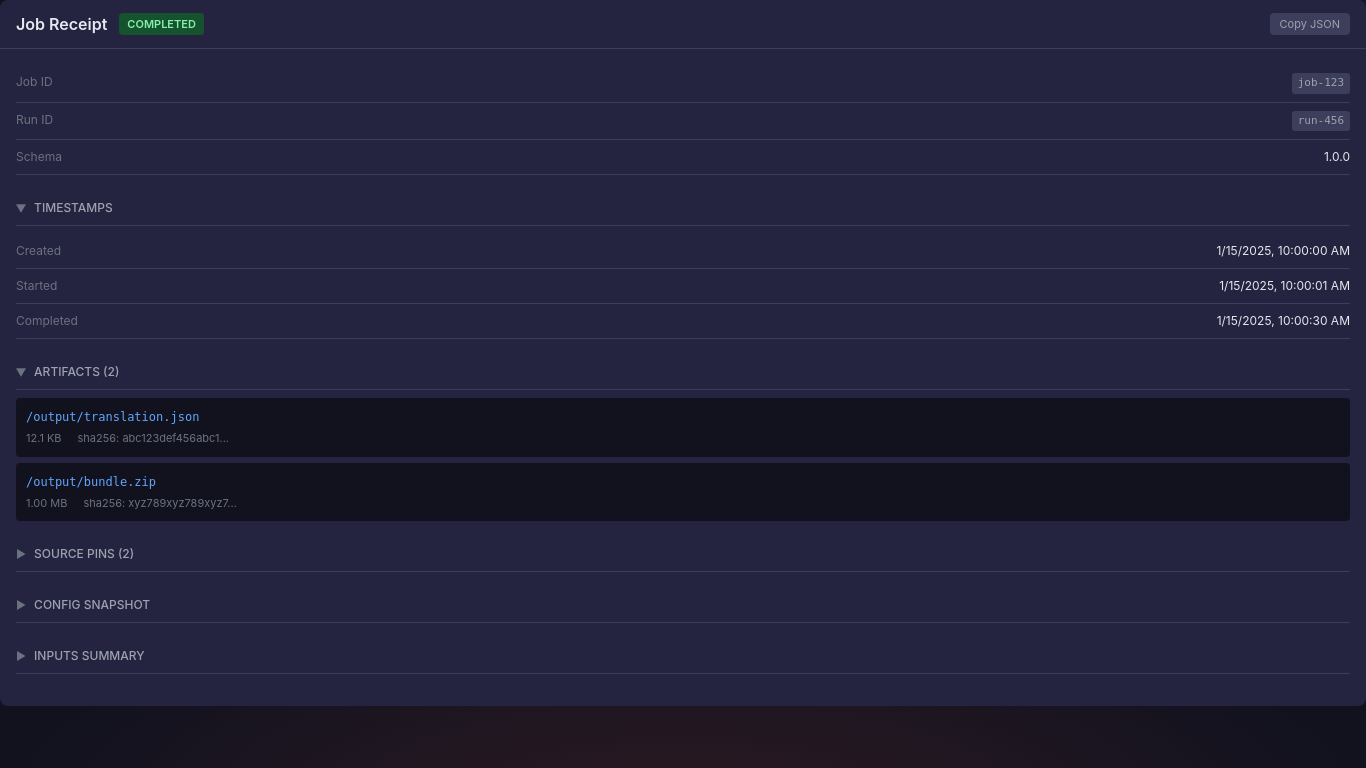
Test: ReceiptViewer › terminal states - success › shows Copied! feedback after copy
The image size is (1366, 768).
Click the button "Copy JSON" at (1310, 24), box [1270,13,1350,35]
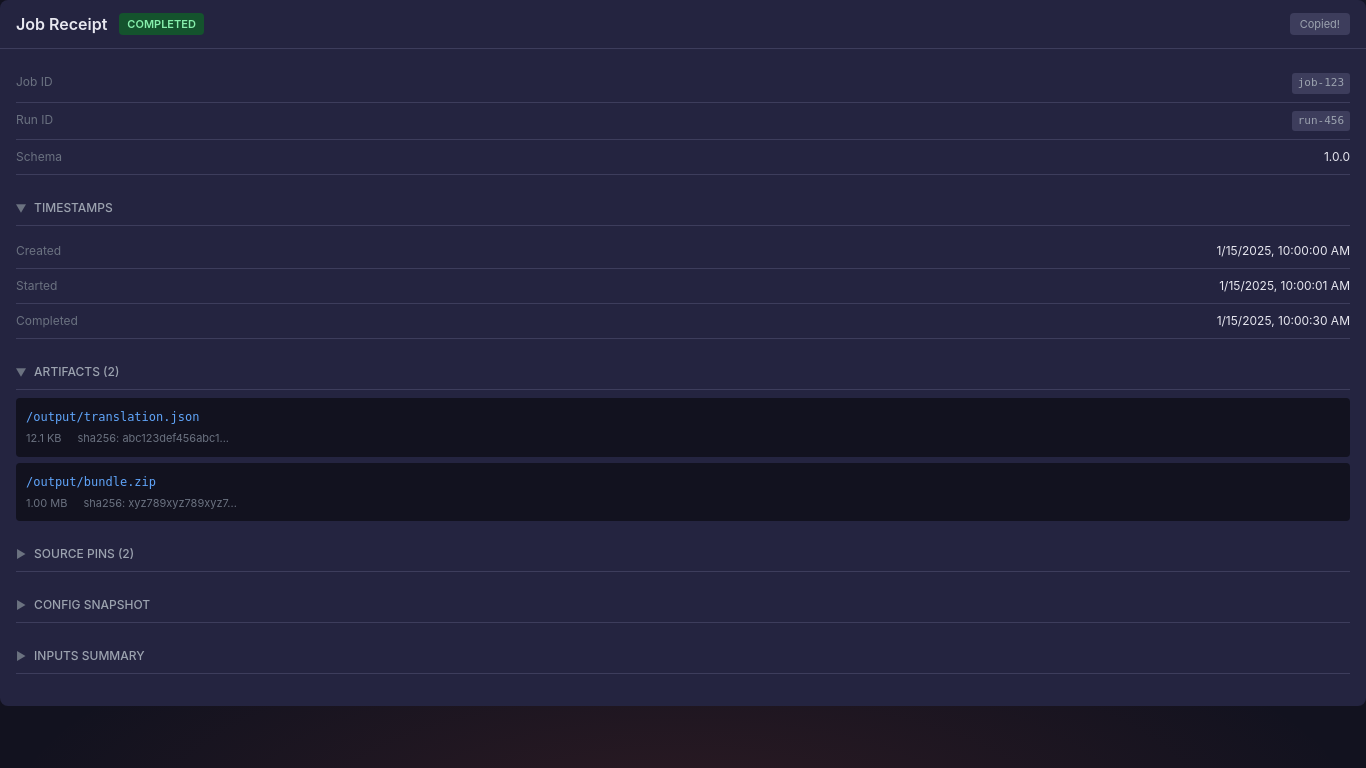
expect the button "Copied!" is shown: met, box [1290,13,1350,35]
